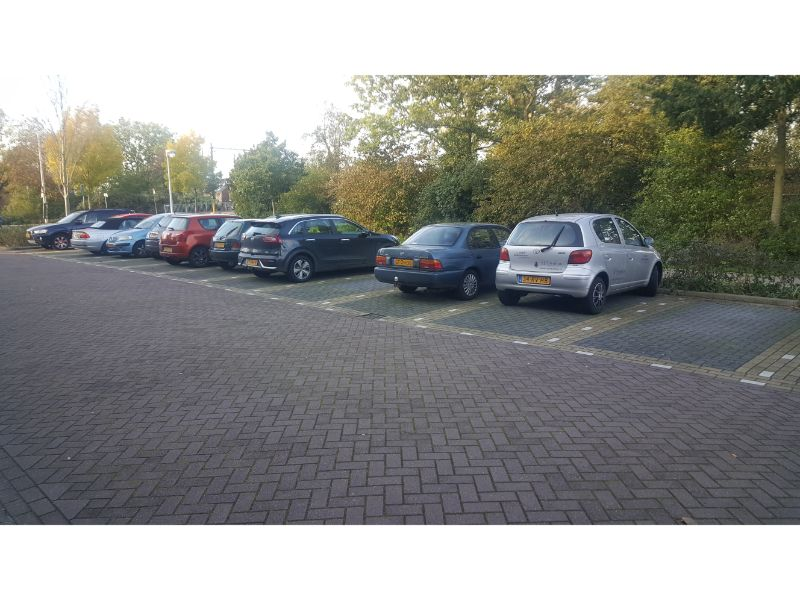kenteken: (517, 272, 552, 287), (391, 256, 415, 269)
